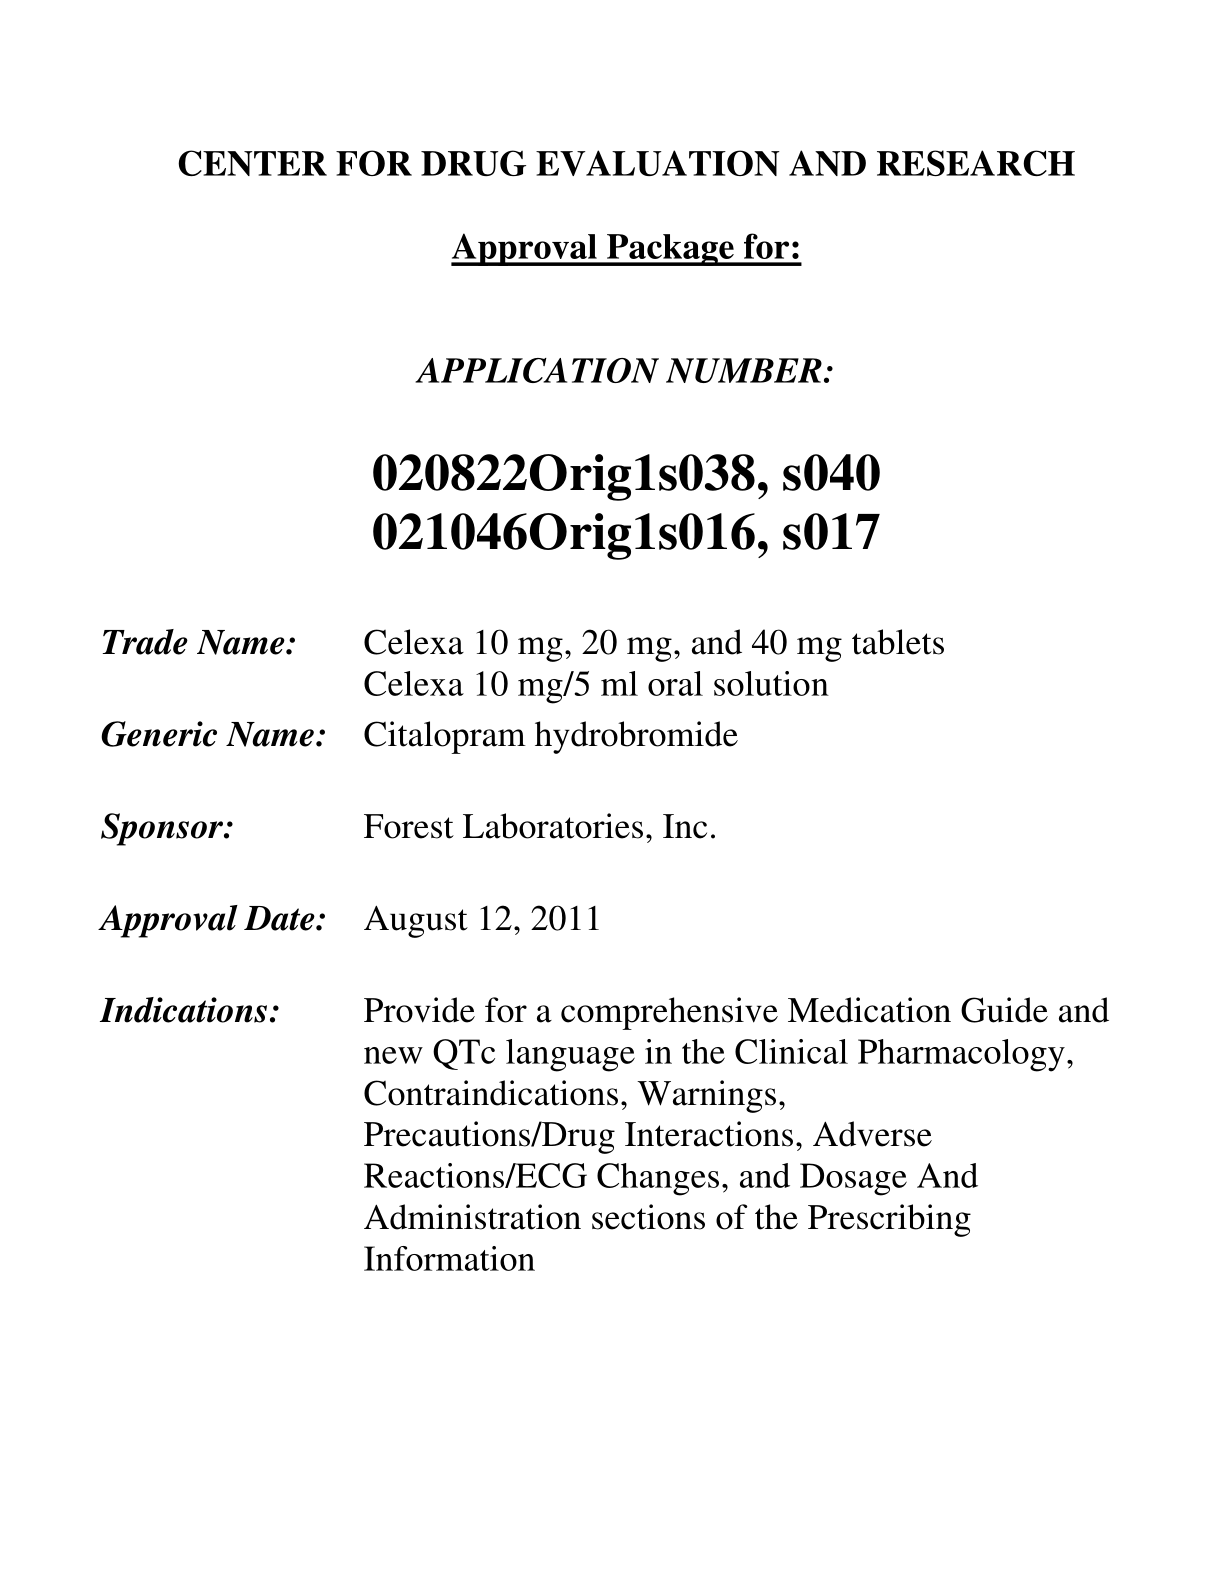nolines: (90, 611, 1122, 1284)
